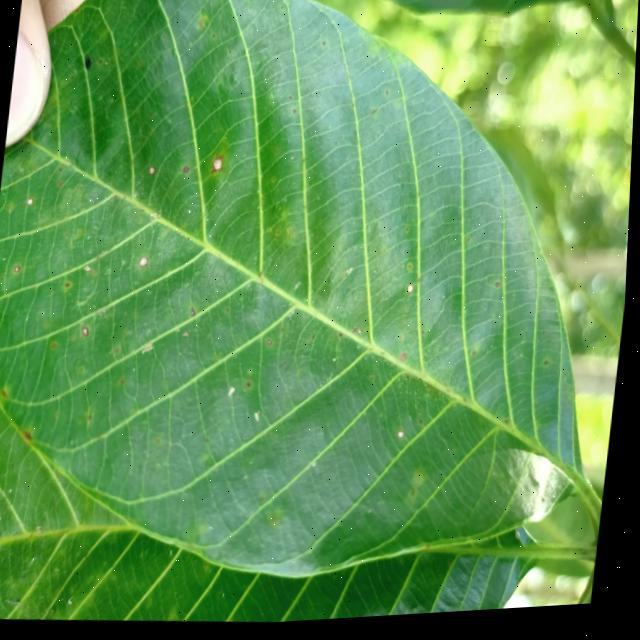Colletotrichum: (213, 156, 226, 176), (84, 325, 93, 339), (84, 57, 93, 69), (141, 258, 150, 268), (409, 288, 417, 297), (401, 434, 409, 443), (150, 167, 157, 176), (16, 265, 23, 271), (29, 197, 35, 204), (184, 168, 190, 174), (250, 383, 255, 389), (270, 342, 275, 347)
